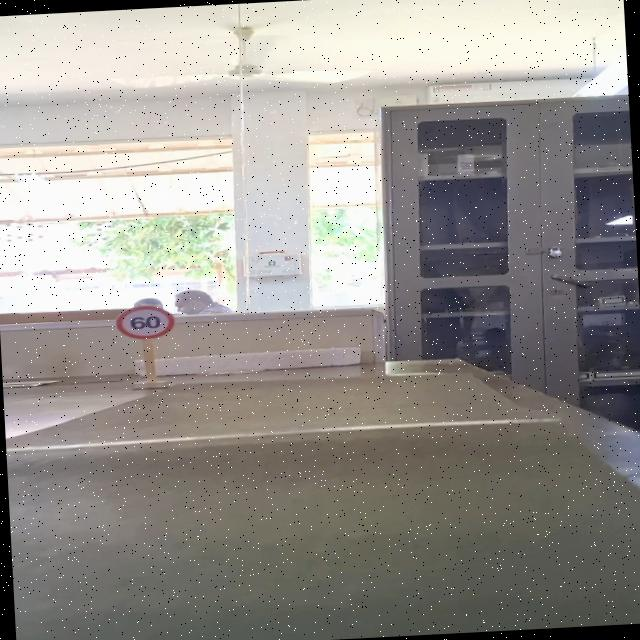Speed60: (114, 304, 178, 341)
